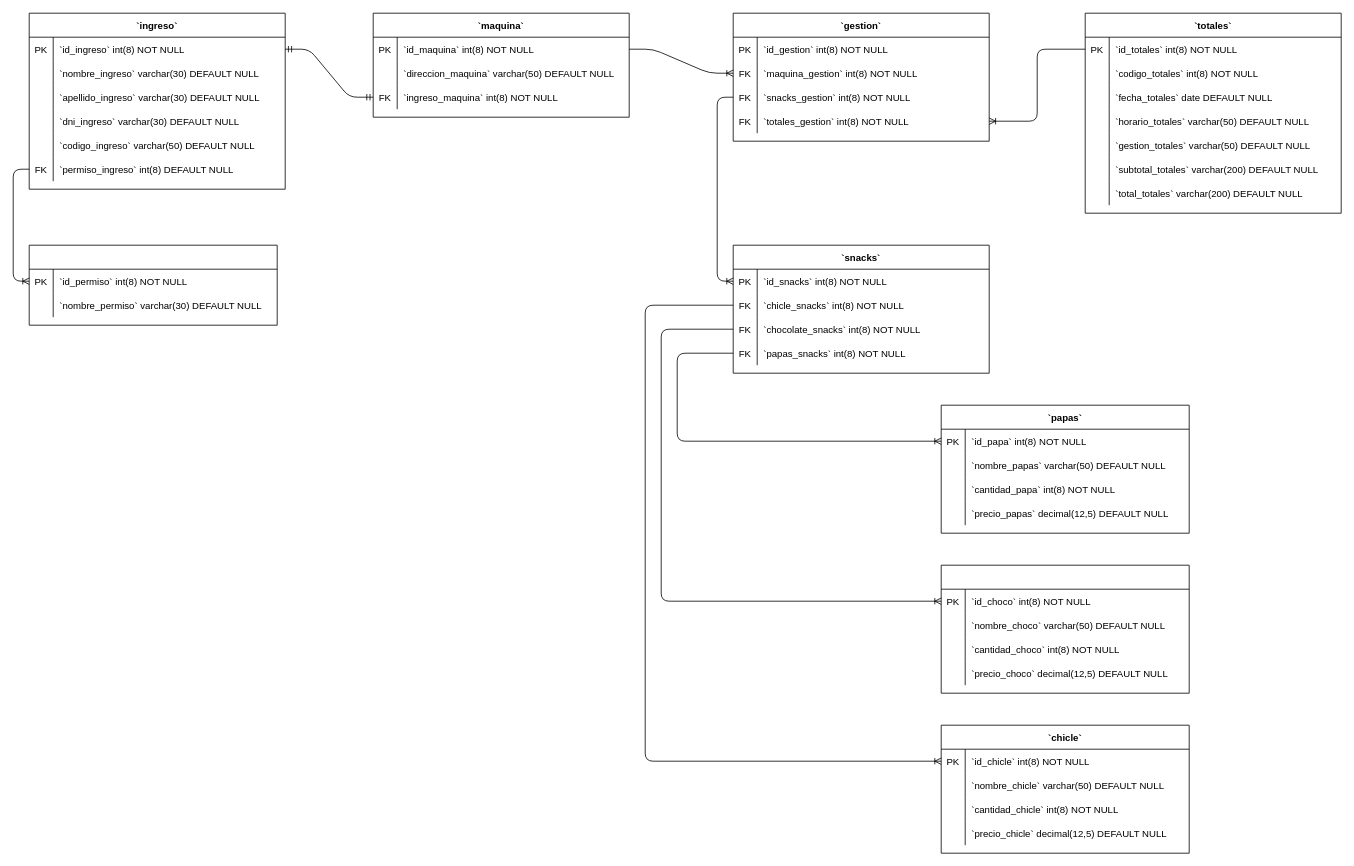
This 1354x866 diagram has some shape labels left out. The box of each missing label's shape, as (x1, y1, x2, y2) in pixels:
`chocolate`: (940, 564, 1189, 693)
`permisos`: (28, 244, 277, 325)
